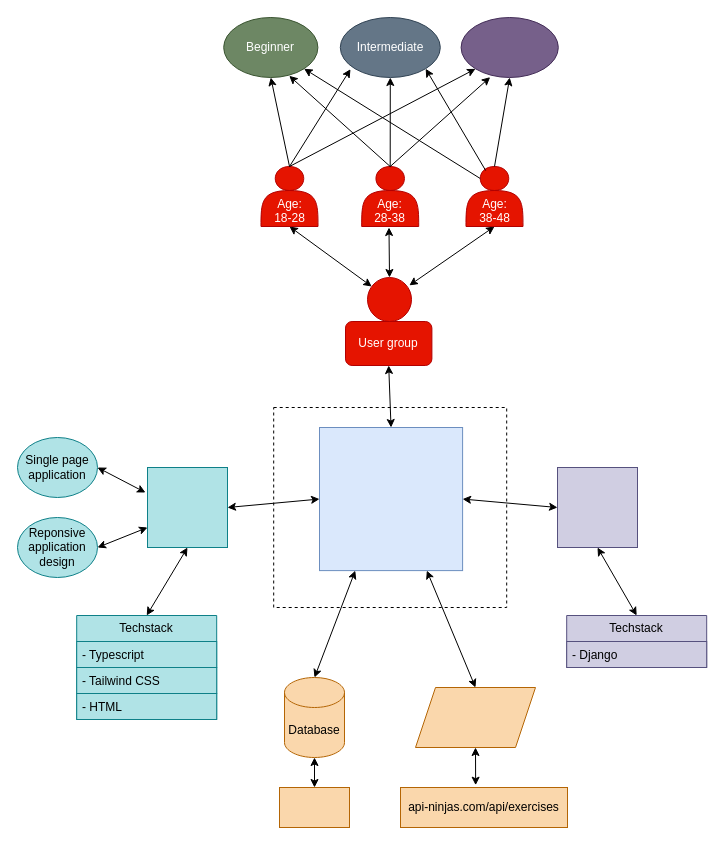
Some shapes in this 725 by 845 pixel diagram are drawn without their labels. Here are the shapes that lost their labels. From the top down, the centre of each, then its label:
At (x=509, y=47): "Advanced".
At (x=187, y=507): "Frontend application".
At (x=390, y=498): "Web application: Workout program".
At (x=597, y=507): "Backend application".
At (x=475, y=717): "API".
At (x=314, y=807): "SQLite".
